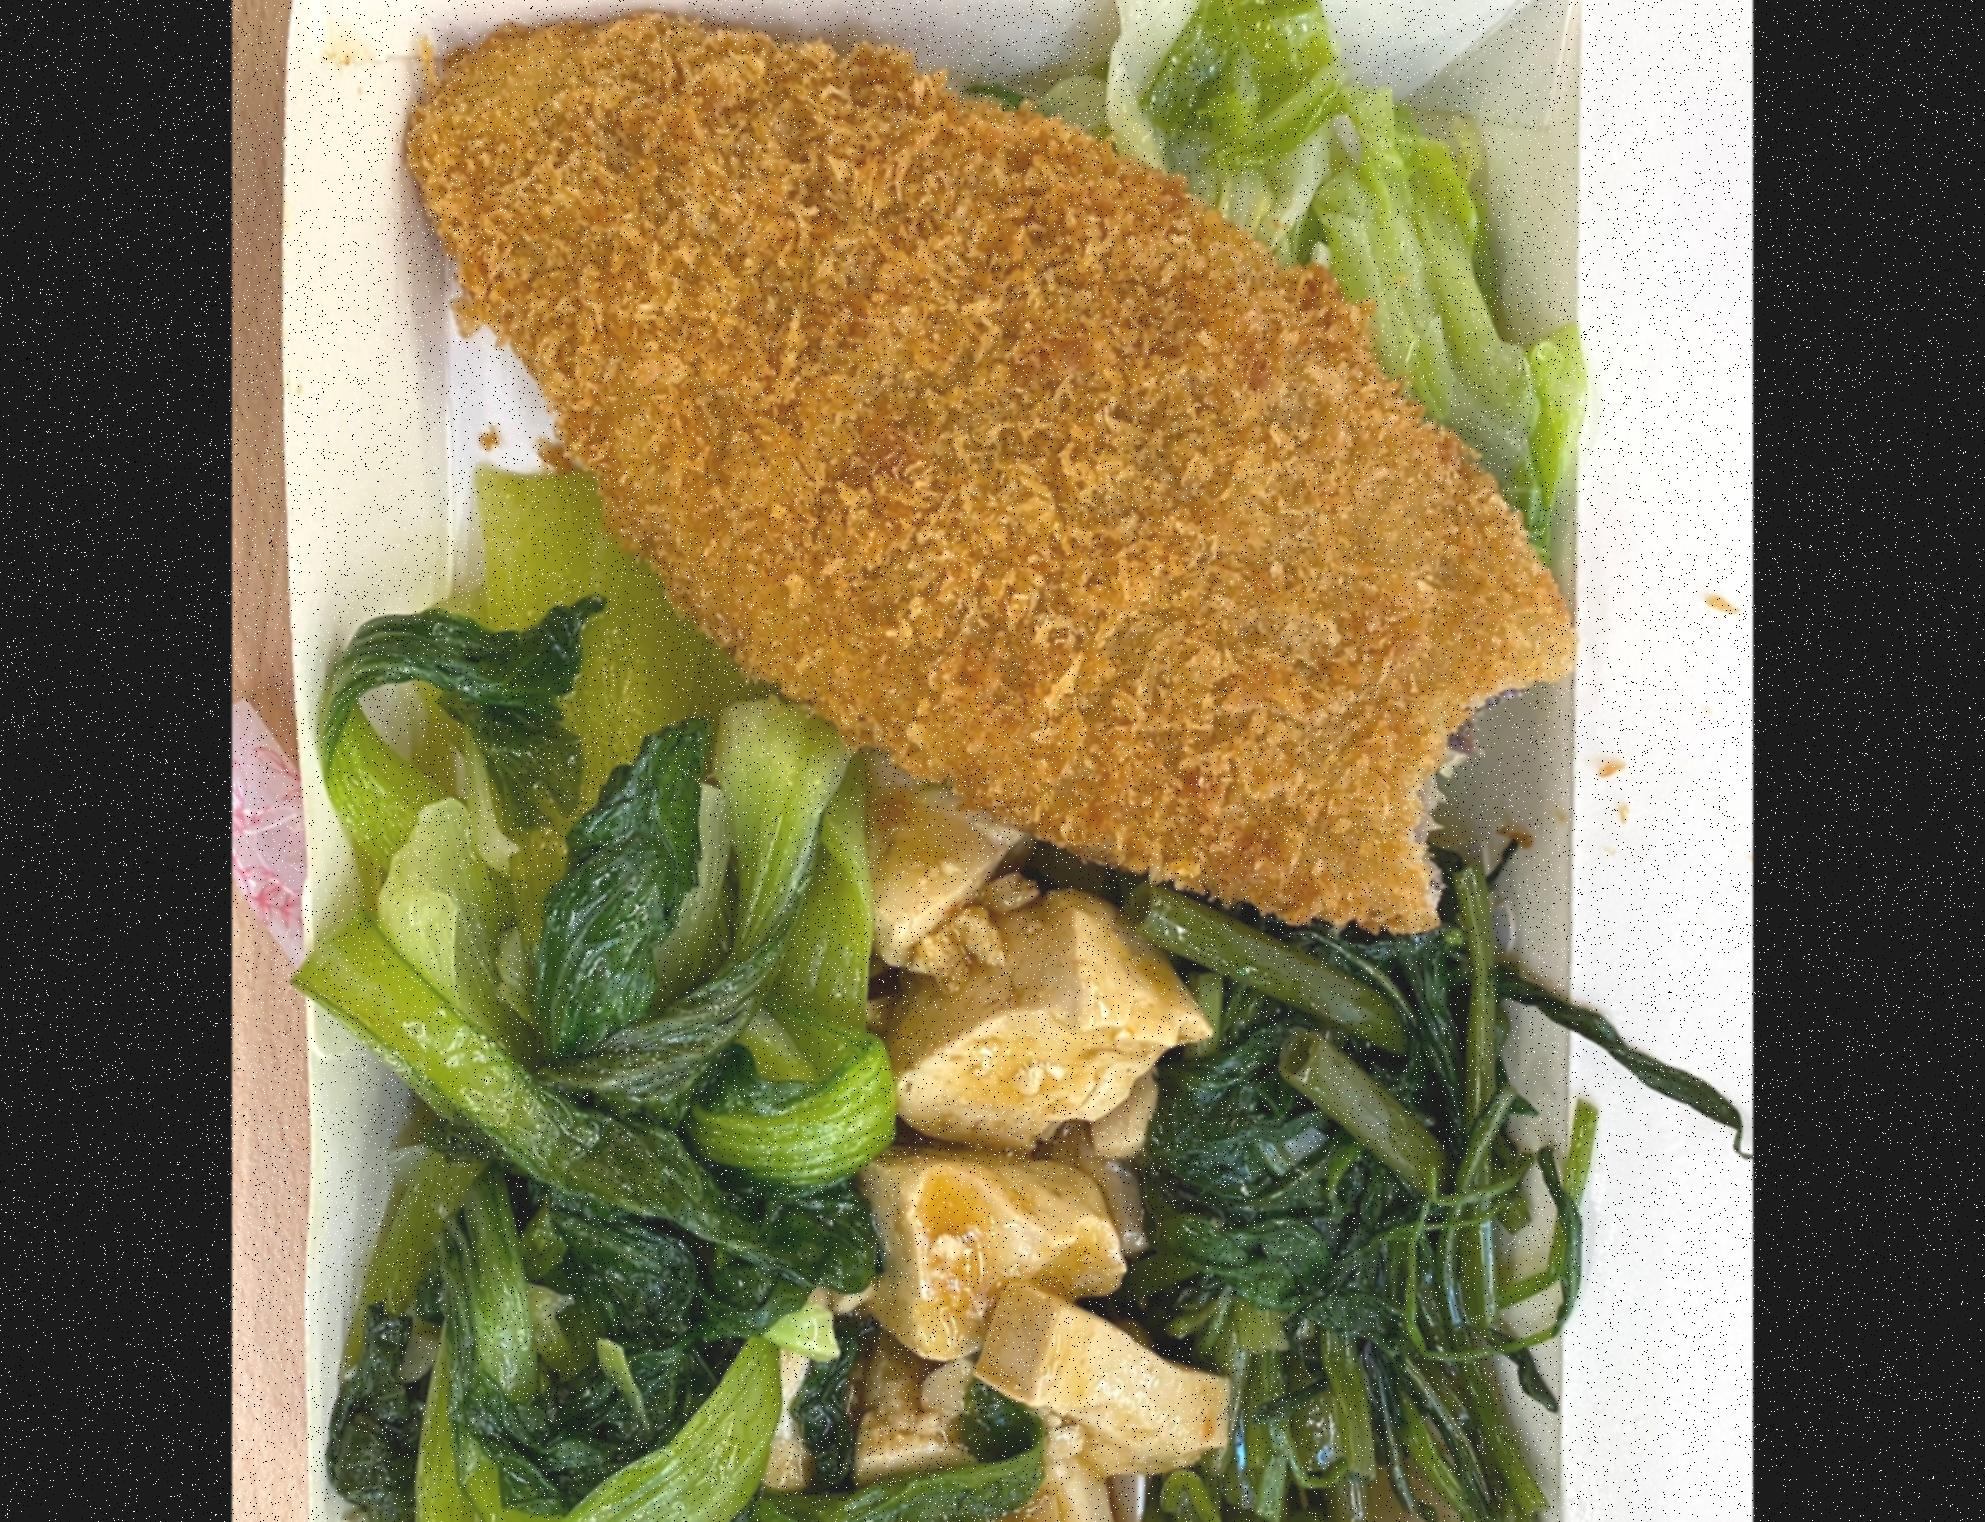box: (249, 0, 1669, 1522)
fried cod steak: (393, 0, 1589, 950)
side dish: (347, 695, 879, 1522), (997, 0, 1613, 512), (1151, 851, 1589, 1522), (865, 846, 1207, 1522)
